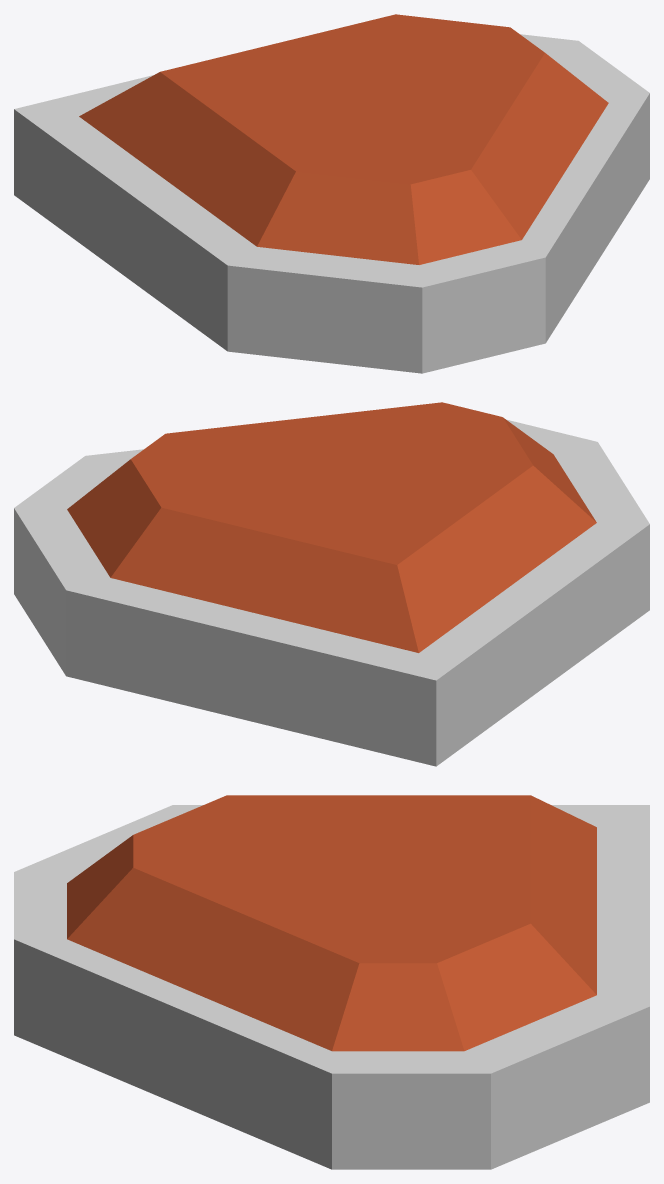
Rendered from ArrowBtn.gltf.
3 views of the same model, one above another, from view 1: azimuth 30°, elevation 25°; view 2: azimuth 150°, elevation 25°; view 3: azimuth 270°, elevation 25° (orthographic). The views are drawn at different scales.
Parts seen in each view (by area): view 1: arrowBtn, arrowBtn3; view 2: arrowBtn, arrowBtn3; view 3: arrowBtn, arrowBtn3.
Boxes of the visible parts, x1,y1,x2,y2 form: arrowBtn: [79, 14, 608, 264]; arrowBtn3: [14, 34, 649, 373]; arrowBtn: [67, 402, 596, 652]; arrowBtn3: [14, 419, 649, 766]; arrowBtn: [67, 795, 596, 1051]; arrowBtn3: [14, 805, 649, 1169].
Size of the model in its own units: 2.4 by 0.65 by 2.4.
